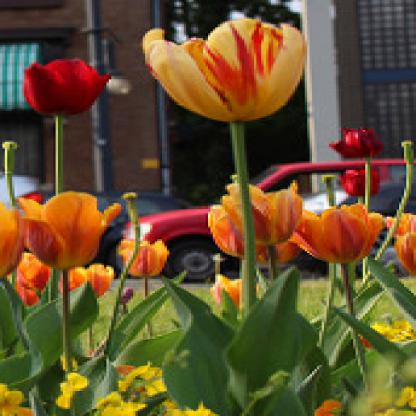TULIP: (11, 18, 403, 405)
